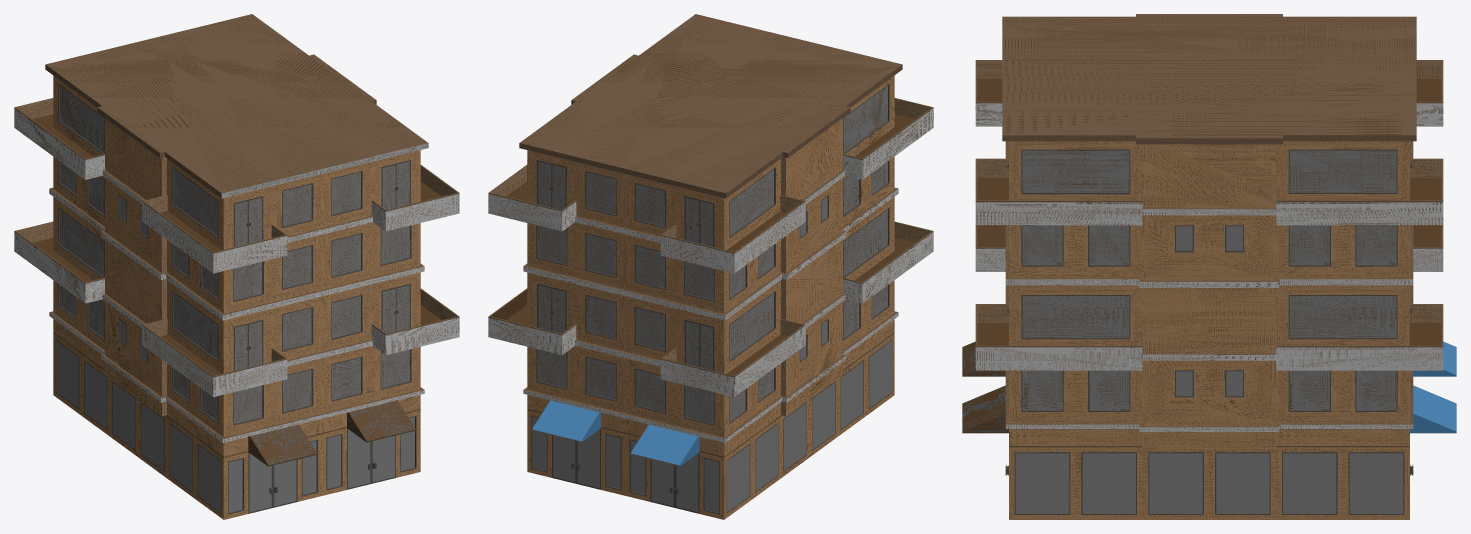
Rendered from new_H_MIX2.dae.
3 views of the same model, side by side, from view 1: azimuth 30°, elevation 25°; view 2: azimuth 150°, elevation 25°; view 3: azimuth 270°, elevation 25° (orthographic). The views are drawn at different scales.
Parts seen in each view (by area): view 1: Rowhouse_Left_End (×68), Retail_Doors (×4), group_2 (×4), group_3 (×4); view 2: Rowhouse_Left_End (×70), Retail_Doors (×4), group_1 (×4); view 3: Rowhouse_Left_End (×65).
Boxes of the visible parts, x1=… form: Rowhouse_Left_End (×68): x1=14, y1=14, x2=459, y2=519; Retail_Doors (×4): x1=249, y1=429, x2=394, y2=512; group_2 (×4): x1=235, y1=285, x2=409, y2=370; group_3 (×4): x1=235, y1=161, x2=409, y2=246; Rowhouse_Left_End (×70): x1=488, y1=14, x2=933, y2=519; Retail_Doors (×4): x1=553, y1=429, x2=698, y2=512; group_1 (×4): x1=538, y1=161, x2=712, y2=246; Rowhouse_Left_End (×65): x1=962, y1=14, x2=1456, y2=519.
Size of the model in its own units: 600 by 888 by 768.
